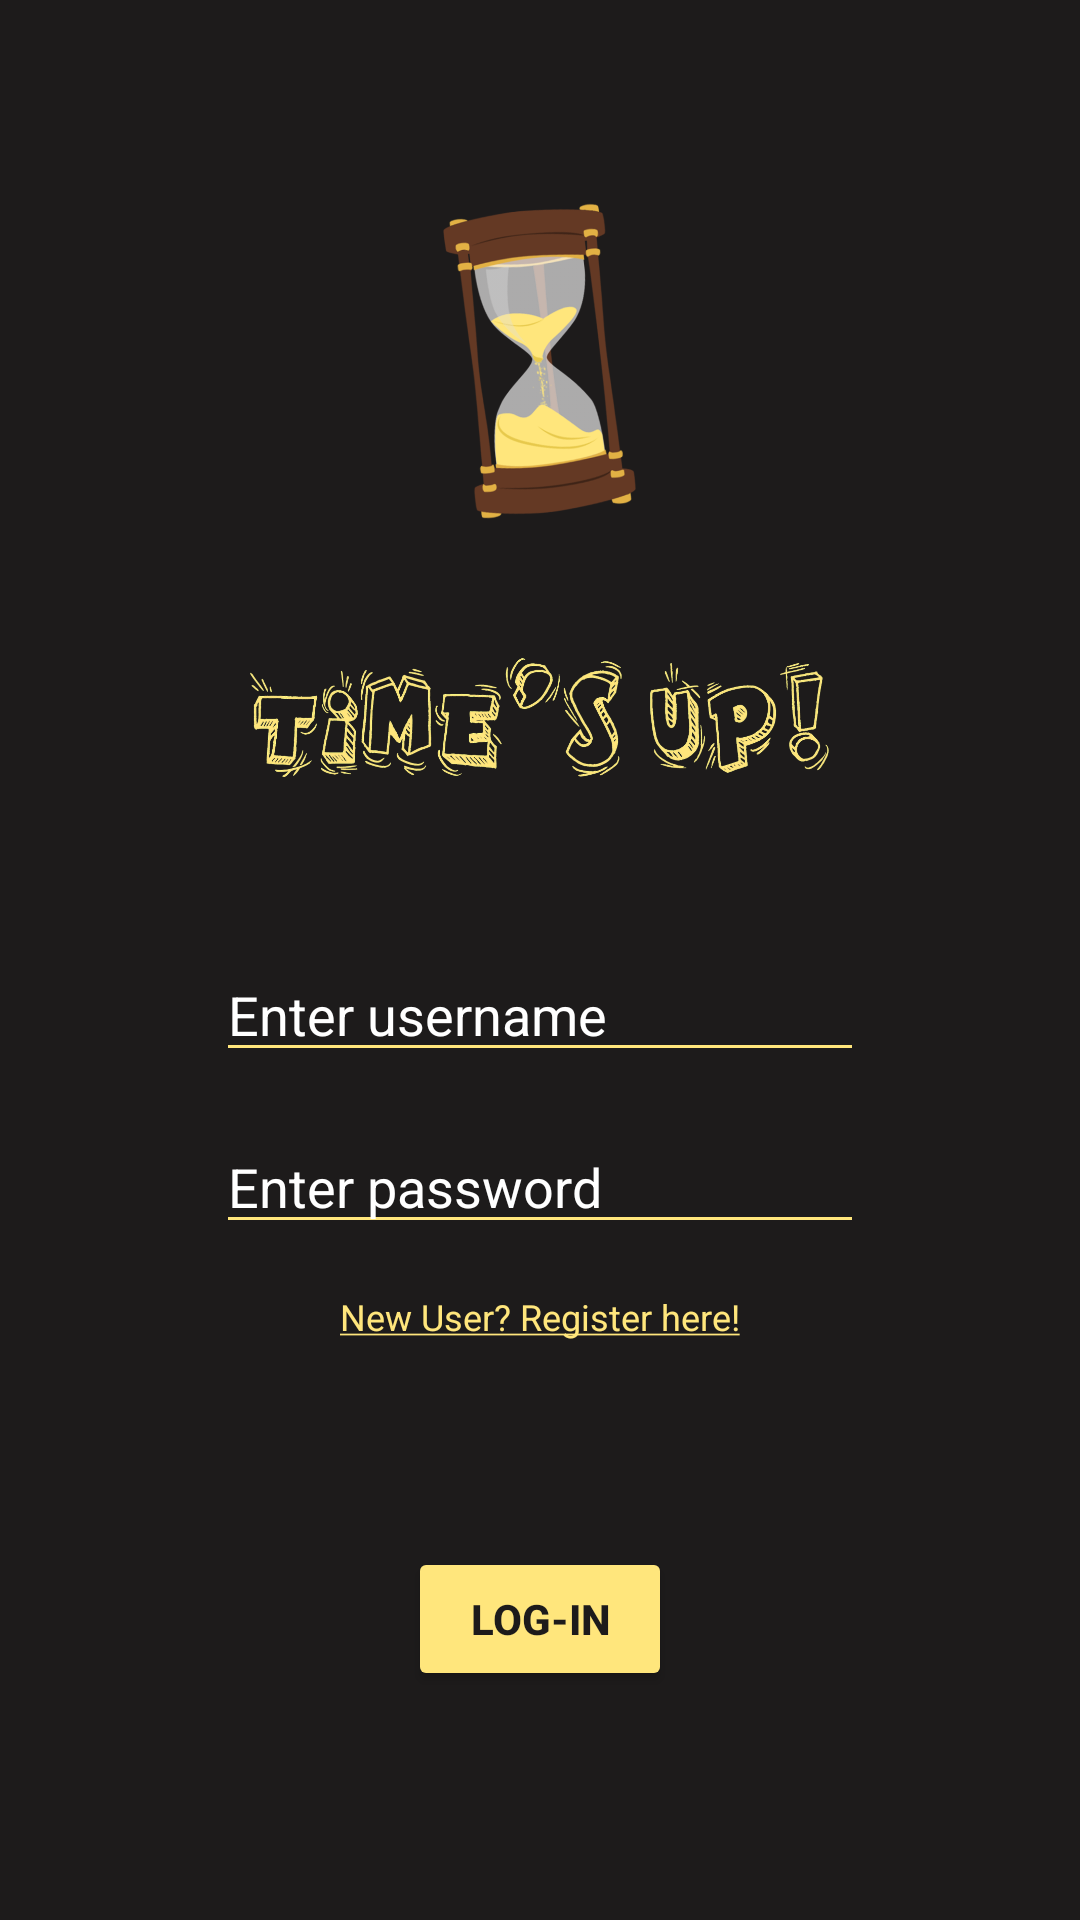

Icon bounding boxes for this 1080 × 1920 phone screenshot, format (x1, y1, x2, y2):
times up pic: (443, 204, 636, 519)
